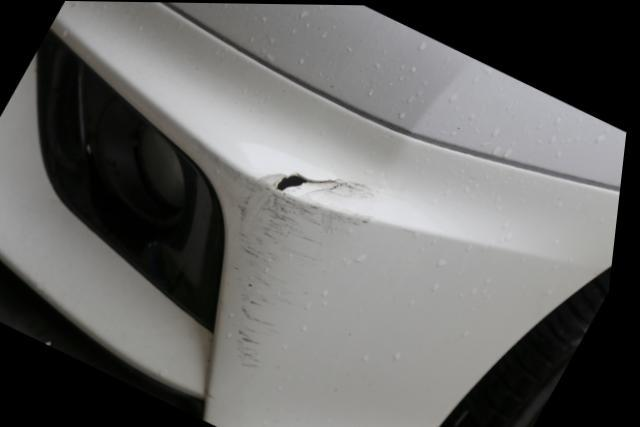crack: (275, 172, 356, 191)
scratch: (241, 170, 396, 372)
